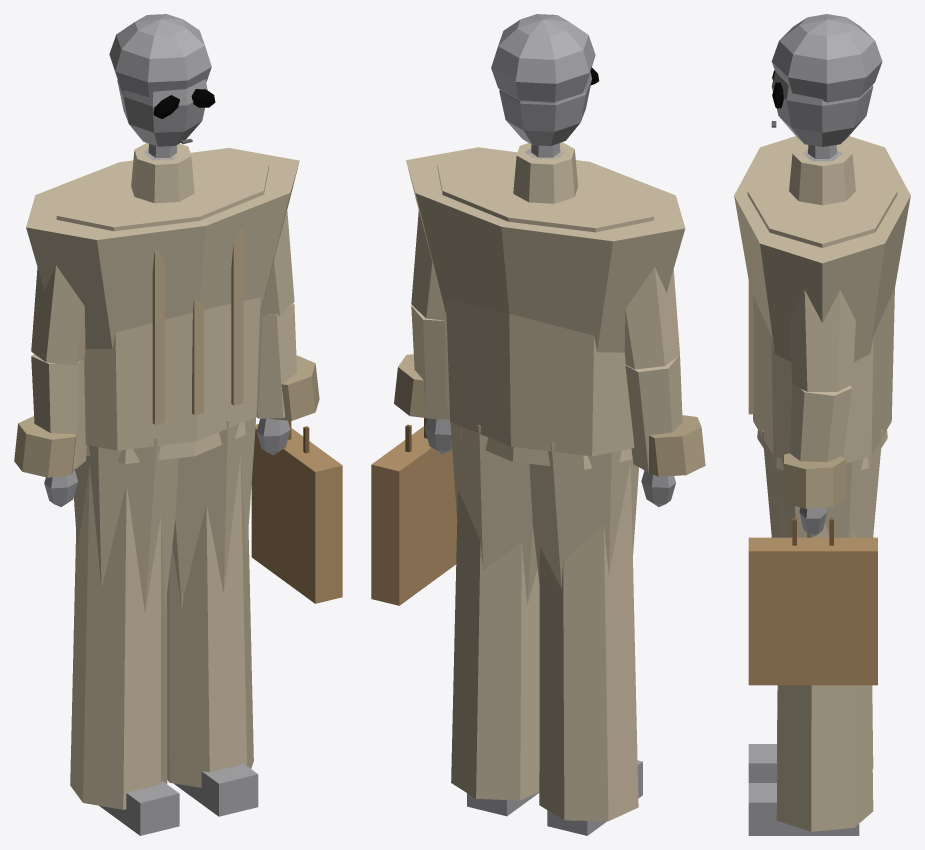
The model's file is 10-grey-alien.glb.
The picture shows the model from 3 angles, left to right: view 1: azimuth 30°, elevation 25°; view 2: azimuth 150°, elevation 25°; view 3: azimuth 270°, elevation 25°; orthographic projection. The views are drawn at different scales.
Visible parts, largest first — view 1: 10-grey-alien-sweater, 10-grey-alien-widepant, 10-grey-alien-torso, 10-grey-alien-widepant.001, 10-grey-alien-bag, 10-grey-alien-thigh, 10-grey-alien-thigh.001, 10-grey-alien-cranium, 10-grey-alien-upperarm, 10-grey-alien-forearm, 10-grey-alien-head, 10-grey-alien-forearm.001 (+12 smaller); view 2: 10-grey-alien-sweater, 10-grey-alien-widepant, 10-grey-alien-torso, 10-grey-alien-widepant.001, 10-grey-alien-bag, 10-grey-alien-thigh, 10-grey-alien-thigh.001, 10-grey-alien-cranium, 10-grey-alien-upperarm, 10-grey-alien-forearm, 10-grey-alien-head, 10-grey-alien-turtleneck (+9 smaller); view 3: 10-grey-alien-bag, 10-grey-alien-sweater, 10-grey-alien-torso, 10-grey-alien-widepant.001, 10-grey-alien-cranium, 10-grey-alien-upperarm.001, 10-grey-alien-thigh.001, 10-grey-alien-forearm.001, 10-grey-alien-head, 10-grey-alien-turtleneck, 10-grey-alien-cuff.001, 10-grey-alien-foot.001 (+5 smaller).
Boxes of the visible parts, x1,y1,x2,y2 form: 10-grey-alien-sweater: [56, 152, 268, 450]; 10-grey-alien-widepant: [70, 465, 167, 809]; 10-grey-alien-torso: [26, 148, 299, 348]; 10-grey-alien-widepant.001: [167, 455, 253, 787]; 10-grey-alien-bag: [251, 424, 342, 603]; 10-grey-alien-thigh: [74, 438, 178, 612]; 10-grey-alien-thigh.001: [172, 417, 256, 595]; 10-grey-alien-cranium: [109, 14, 211, 97]; 10-grey-alien-upperarm: [31, 265, 85, 365]; 10-grey-alien-forearm: [31, 354, 86, 468]; 10-grey-alien-head: [117, 79, 207, 146]; 10-grey-alien-forearm.001: [256, 303, 296, 418]; 10-grey-alien-sweater: [437, 152, 653, 456]; 10-grey-alien-widepant: [539, 464, 638, 821]; 10-grey-alien-torso: [406, 147, 685, 352]; 10-grey-alien-widepant.001: [451, 489, 539, 800]; 10-grey-alien-bag: [371, 426, 457, 605]; 10-grey-alien-thigh: [529, 443, 638, 588]; 10-grey-alien-thigh.001: [450, 422, 537, 604]; 10-grey-alien-cranium: [491, 14, 595, 102]; 10-grey-alien-upperarm: [624, 267, 679, 369]; 10-grey-alien-forearm: [625, 355, 682, 472]; 10-grey-alien-head: [499, 71, 591, 145]; 10-grey-alien-turtleneck: [513, 142, 577, 203]; 10-grey-alien-bag: [748, 537, 877, 685]; 10-grey-alien-sweater: [747, 144, 897, 463]; 10-grey-alien-torso: [734, 136, 910, 361]; 10-grey-alien-widepant.001: [776, 488, 873, 831]; 10-grey-alien-cranium: [771, 14, 882, 102]; 10-grey-alien-upperarm.001: [789, 290, 855, 391]; 10-grey-alien-thigh.001: [762, 430, 882, 537]; 10-grey-alien-forearm.001: [789, 384, 852, 462]; 10-grey-alien-head: [771, 71, 873, 146]; 10-grey-alien-turtleneck: [789, 144, 855, 205]; 10-grey-alien-cuff.001: [784, 453, 845, 508]; 10-grey-alien-foot.001: [748, 783, 859, 835].
Bounding box in the file's own units: 0.7557 × 1.88 × 0.3828.
